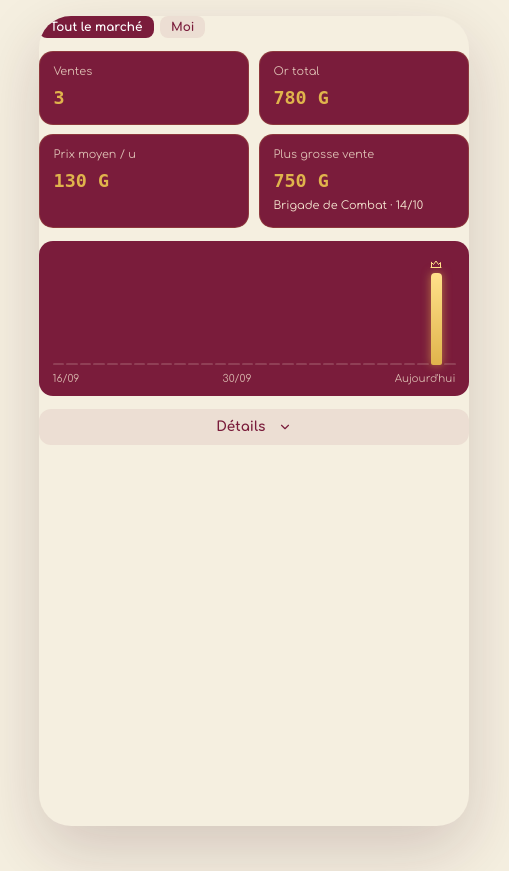
it: SalesHistory › trie par prix pour que la plus grosse vente soit en tête de liste
This screenshot has width=509, height=871.
What coordinates should you click on to do the following:
click the button "Plus grosse vente 750 G Brigade de Combat · 14/10"
I would click on:
 (364, 181)
Its box is [259,134,469,228].
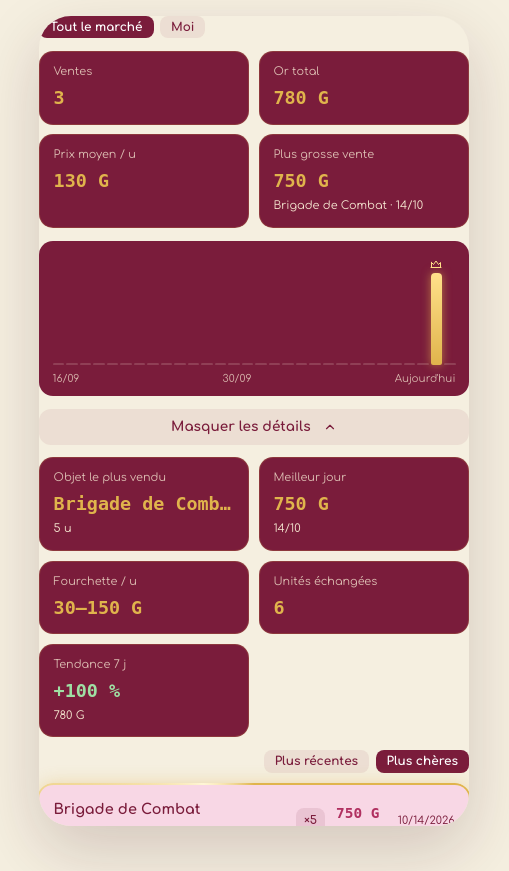
expect the text "Brigade de Combat" in the row of "10/14/2026" is shown: met, box [53,801,200,817]
